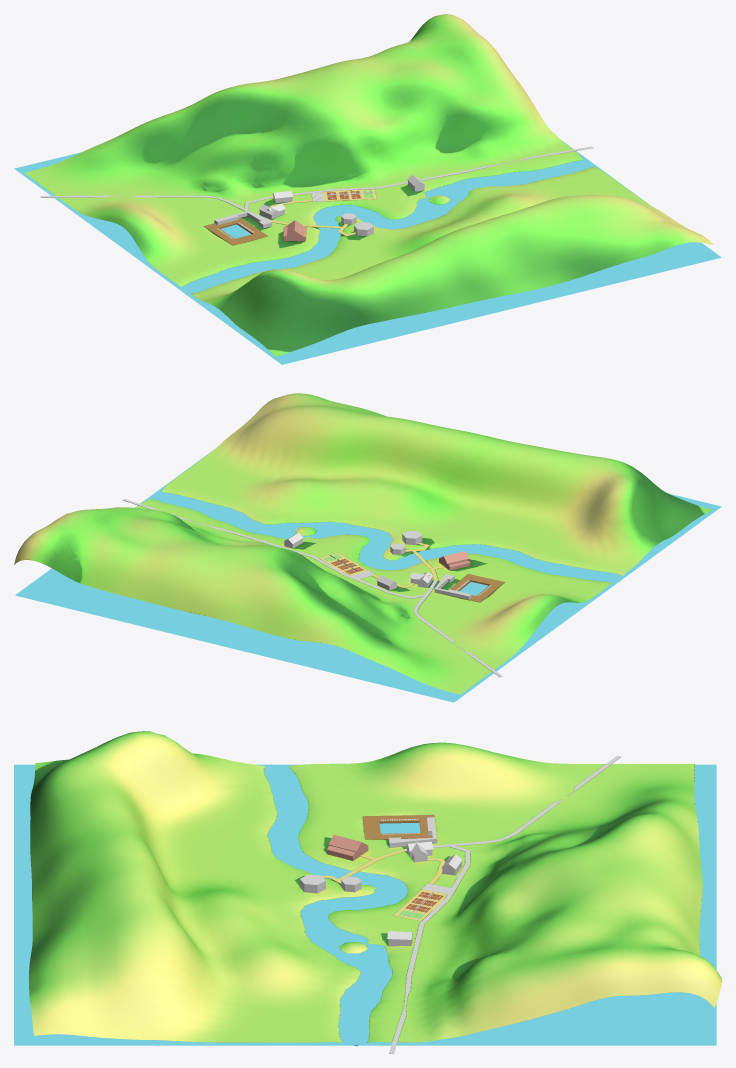
3 renders of one model, top to bottom at view 1: azimuth 30°, elevation 25°; view 2: azimuth 150°, elevation 25°; view 3: azimuth 270°, elevation 25°, orthographic. The views are drawn at different scales.
Parts seen in each view (by area): view 1: Terrain_remesh, Water, Sweep.1, Pool, Sweep; view 2: Terrain_remesh, Water, Sweep.1, Pool; view 3: Terrain_remesh, Water, Sweep.1, Pool, Cube.7, Sweep, Route.
Boxes of the visible parts, box(x1,y1,x2,y2) form: Terrain_remesh: box(24, 14, 713, 356); Water: box(14, 139, 721, 364); Sweep.1: box(244, 146, 593, 209); Pool: box(204, 218, 267, 245); Sweep: box(40, 195, 271, 221); Terrain_remesh: box(14, 393, 711, 694); Water: box(15, 450, 721, 702); Sweep.1: box(122, 499, 426, 598); Pool: box(443, 574, 504, 602); Terrain_remesh: box(29, 731, 721, 1046); Water: box(14, 764, 716, 1045); Sweep.1: box(389, 845, 470, 1053); Pool: box(363, 815, 434, 839); Cube.7: box(326, 835, 368, 860); Sweep: box(403, 755, 621, 851); Route: box(322, 849, 445, 884).
Size of the model in its own units: 11.76 by 1.58 by 11.81.
Materials: 8 (1 with a texture image).
